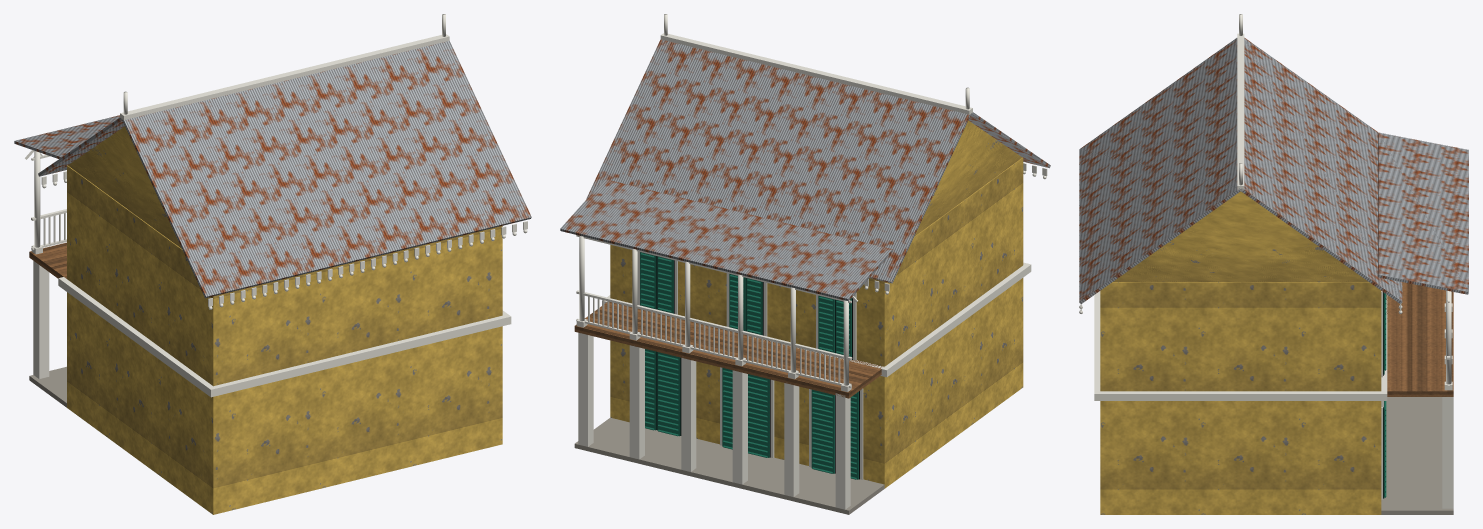
File: Kay_Etaj.fbx
3 views of the same model, side by side, from view 1: azimuth 30°, elevation 25°; view 2: azimuth 150°, elevation 25°; view 3: azimuth 270°, elevation 25° (orthographic). The views are drawn at different scales.
Parts seen in each view (by area): view 1: Kay_Etaj; view 2: Kay_Etaj; view 3: Kay_Etaj.
Part boxes in pixels (x1,y1,x2,y2): Kay_Etaj: (14, 14, 531, 514); Kay_Etaj: (560, 14, 1050, 514); Kay_Etaj: (1079, 14, 1468, 514).
Bounding box in the file's own units: 9 × 9.88 × 9.71.
